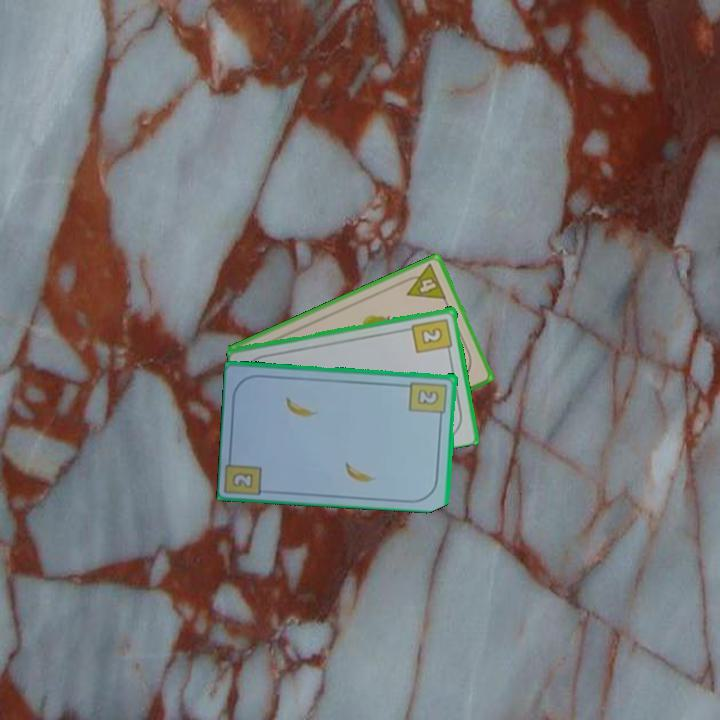2b: (406, 378, 450, 422), (409, 315, 455, 356), (228, 469, 257, 491)
4p: (398, 260, 449, 303)
